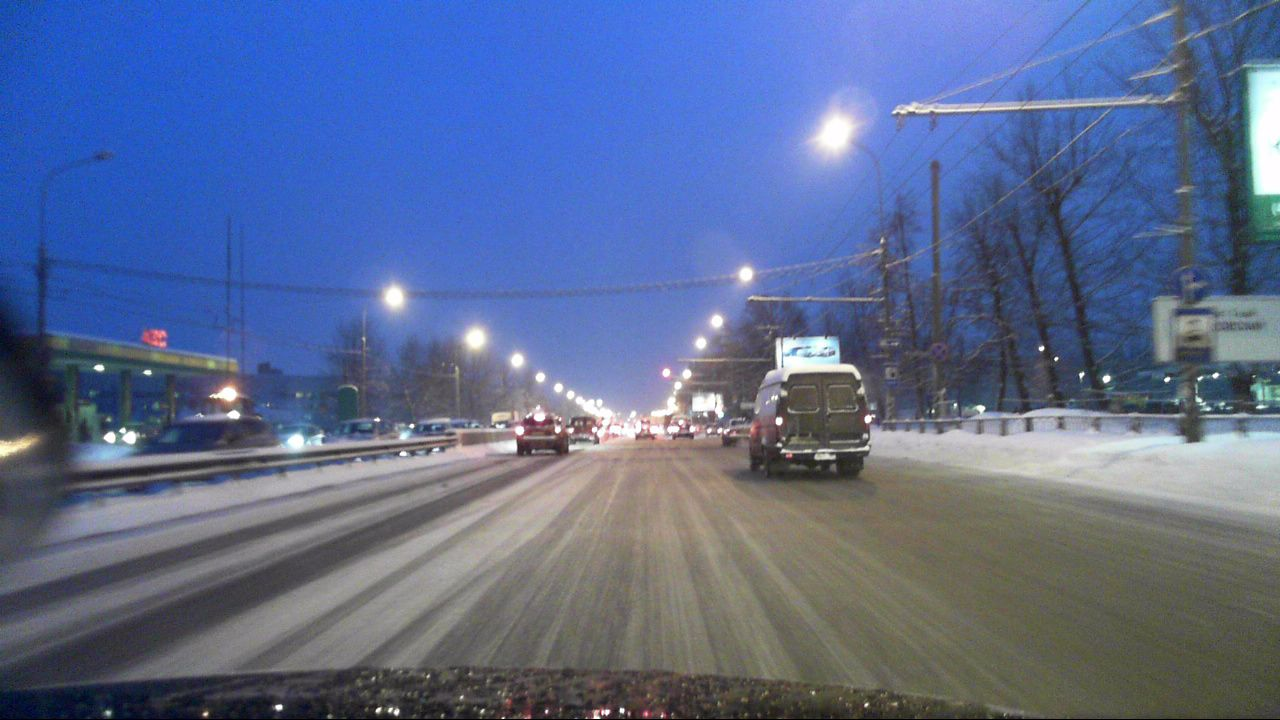No Parking: (926, 341, 948, 363)
